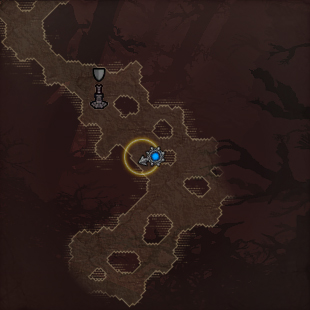Guardian2: (122, 135, 161, 178)
